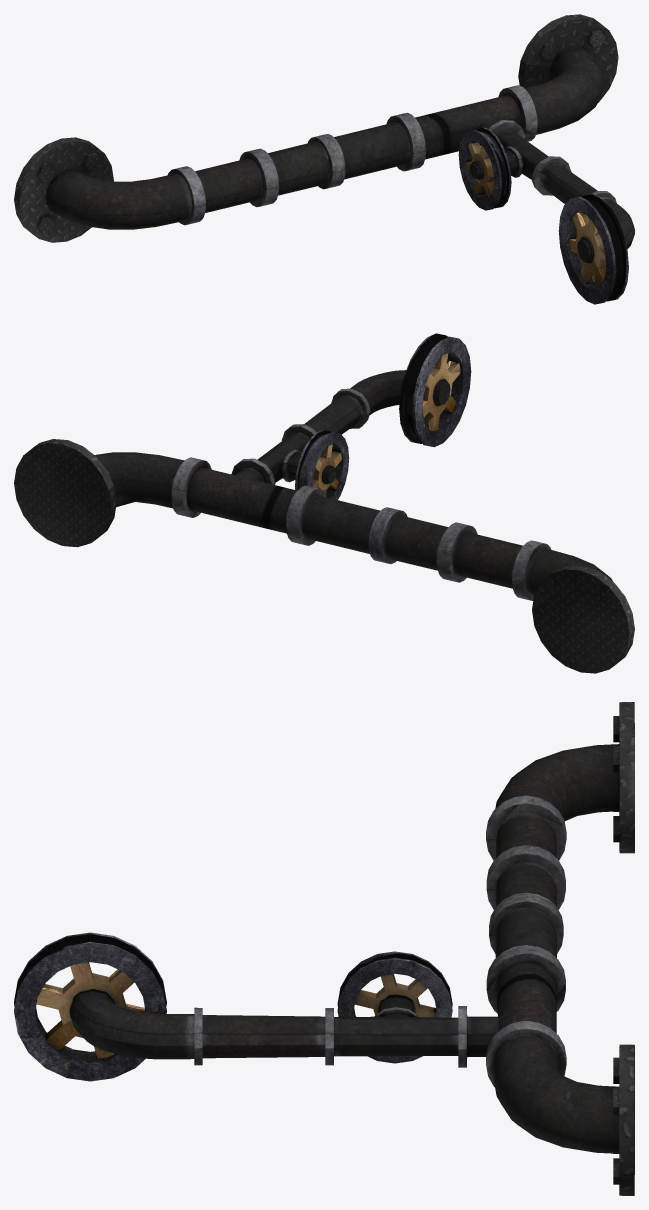
File: handle.fbx
3 views of the same model, one above another, from view 1: azimuth 30°, elevation 25°; view 2: azimuth 150°, elevation 25°; view 3: azimuth 270°, elevation 25° (orthographic). The views are drawn at different scales.
Visible parts, largest first — view 1: DoorBell_Handle1; view 2: DoorBell_Handle1; view 3: DoorBell_Handle1.
Part boxes in pixels (x1,y1,x2,y2): DoorBell_Handle1: (14, 14, 634, 304); DoorBell_Handle1: (14, 333, 634, 673); DoorBell_Handle1: (14, 702, 634, 1195).
Size of the model in its own units: 11.22 by 1.78 by 7.24.
3 materials, 3 textured.
